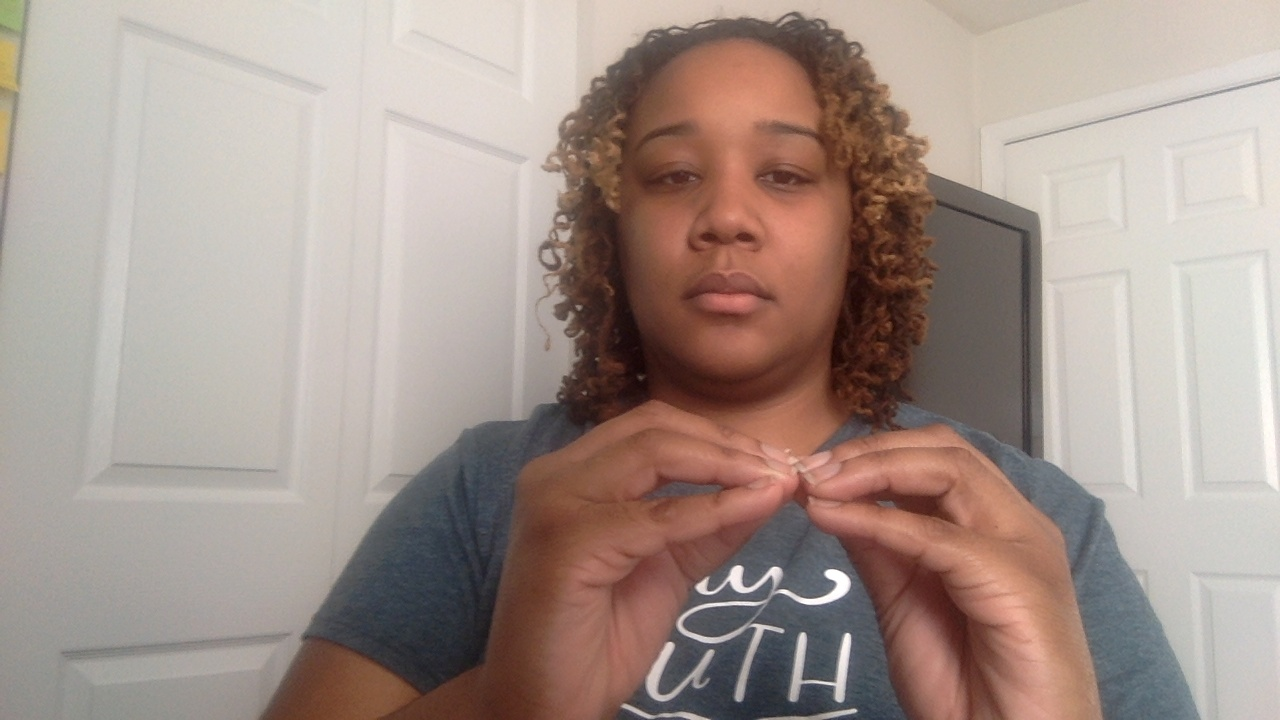more: (486, 391, 1106, 720)
